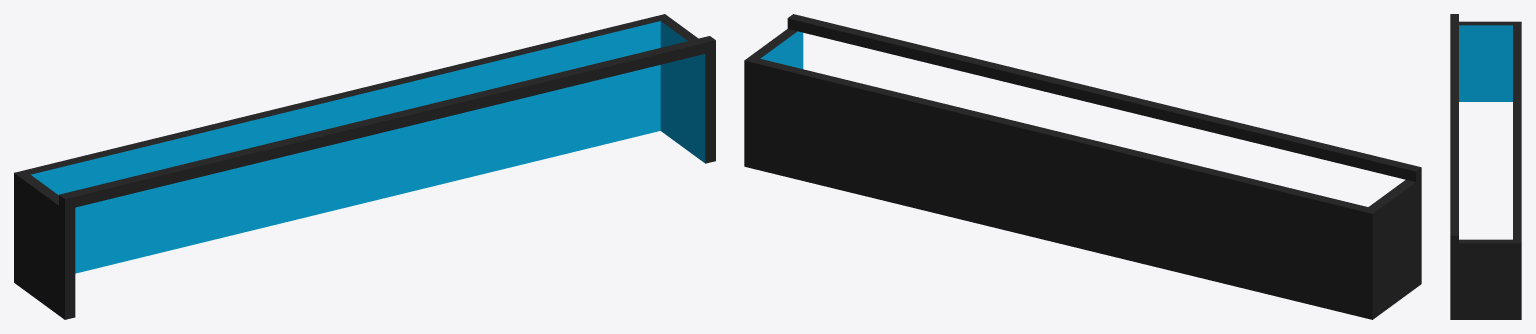
The model's file is GoalBlue.dae.
The picture shows the model from 3 angles, left to right: view 1: azimuth 30°, elevation 25°; view 2: azimuth 150°, elevation 25°; view 3: azimuth 270°, elevation 25°; orthographic projection. The views are drawn at different scales.
Parts seen in each view (by area): view 1: SketchUp (×2); view 2: SketchUp (×2); view 3: SketchUp (×2).
Part boxes in pixels (x1,y1,x2,y2): SketchUp (×2): [14, 14, 715, 319]; SketchUp (×2): [744, 14, 1421, 319]; SketchUp (×2): [1450, 14, 1521, 319].
Size of the model in its own units: 24.41 by 3.31 by 4.33.
